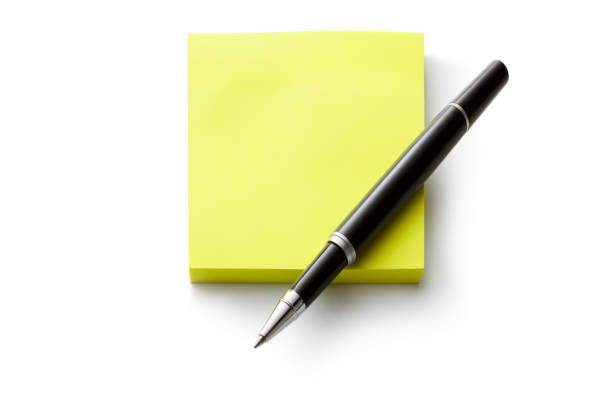pen: (249, 55, 516, 357)
